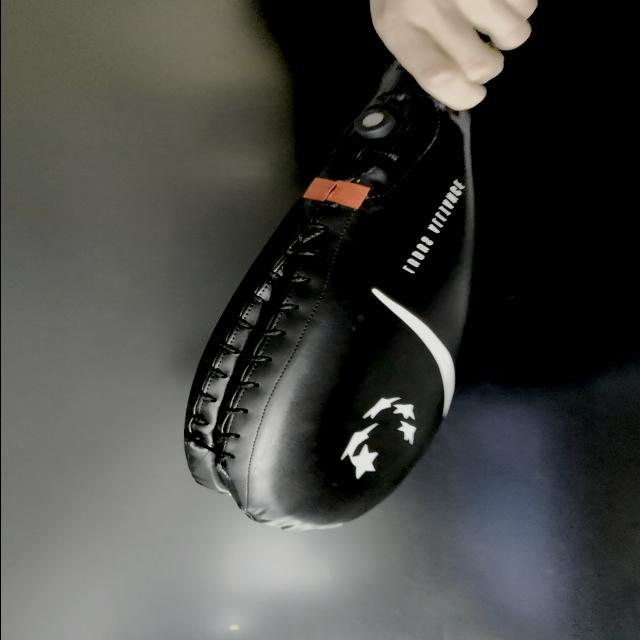paddle: (180, 57, 478, 533)
